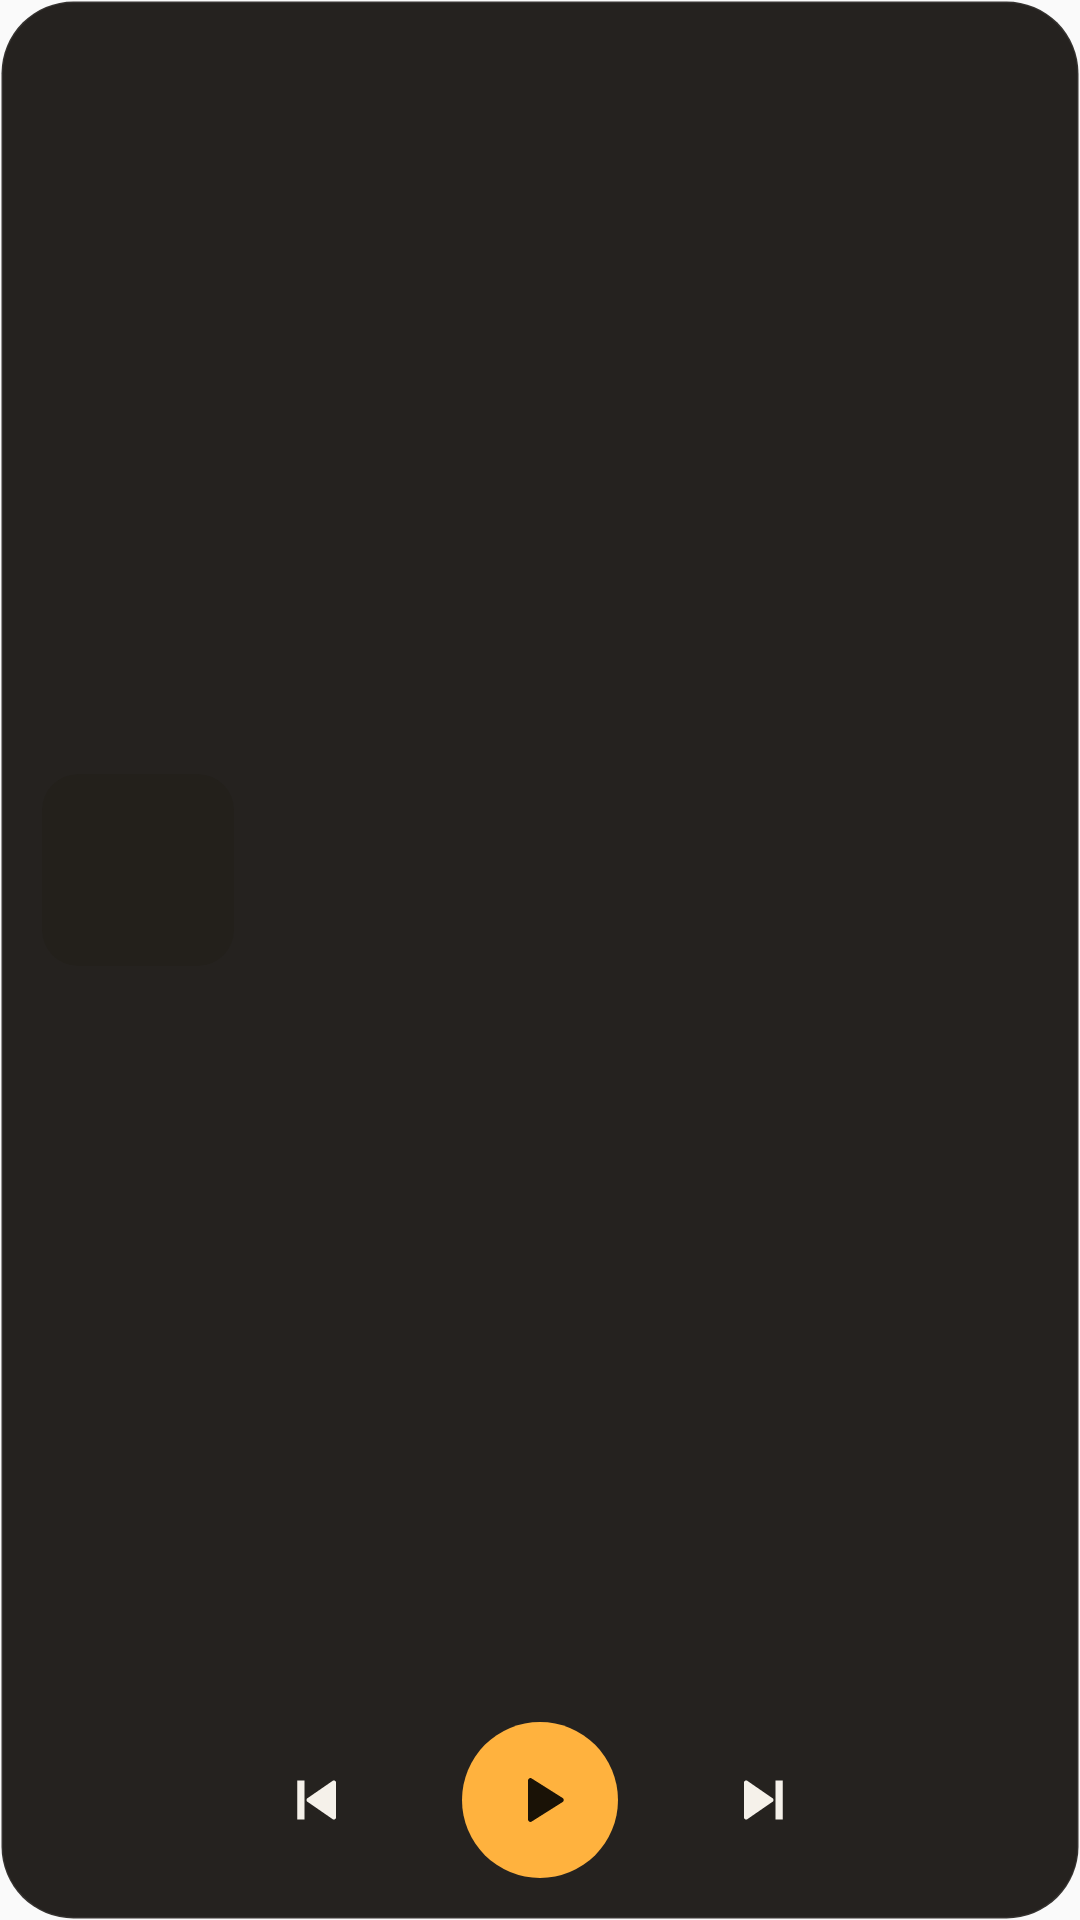

Where icons sit on this 1080×1920 app screen, as region(x1, y1, x2, y2):
Играть или пауза: region(462, 1722, 618, 1878)
Предыдущий: region(297, 1780, 336, 1820)
Следующий: region(744, 1780, 783, 1820)
